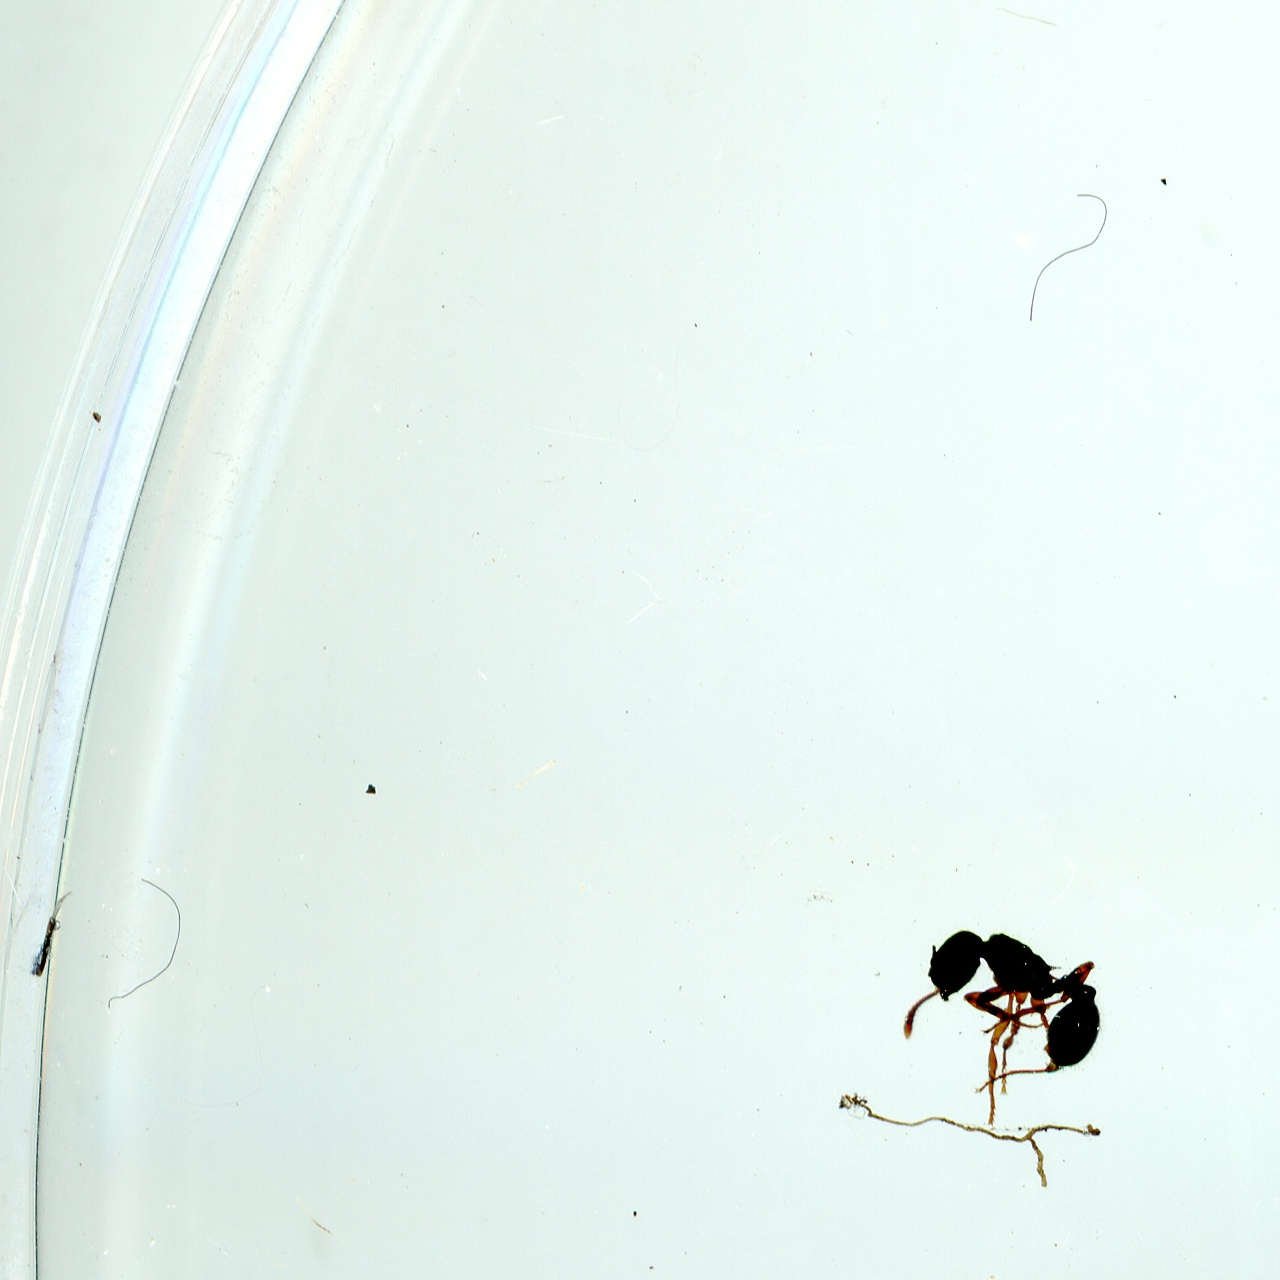arthropod: (897, 919, 1108, 1130), (27, 887, 77, 983), (947, 1261, 1060, 1280)
